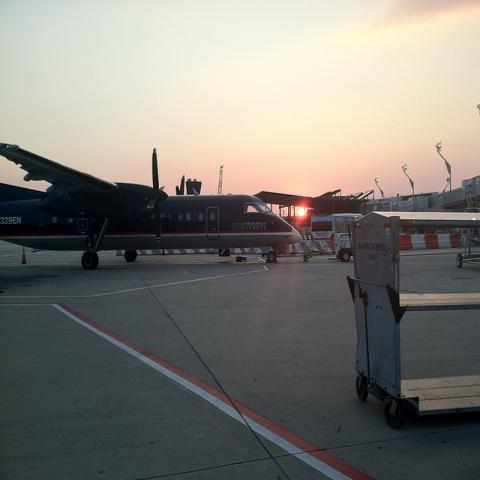truck: (310, 214, 363, 262)
